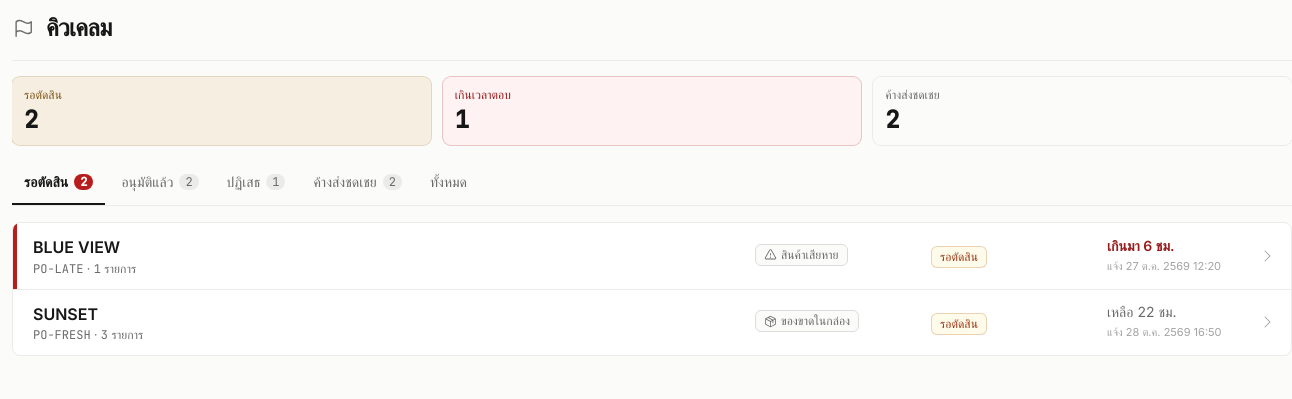
Test case: the backorders tab lists unmatched resends and flags ones waiting over 7 days
Expected: the text "BLUE VIEW" is shown, [33,237,120,257]
Click the tab "ค้างส่งชดเชย 2". click: (358, 183)
box: [301,161,414,205]
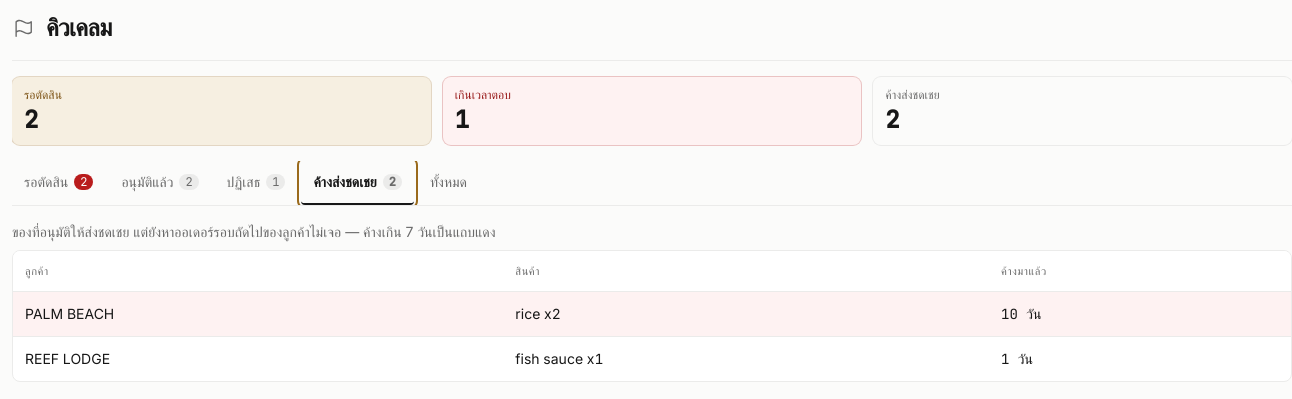
Now the text "PALM BEACH" shows "rice", box [515,305,540,322]
Now the text "PALM BEACH" shows "10 วัน", box [13,292,1291,336]
